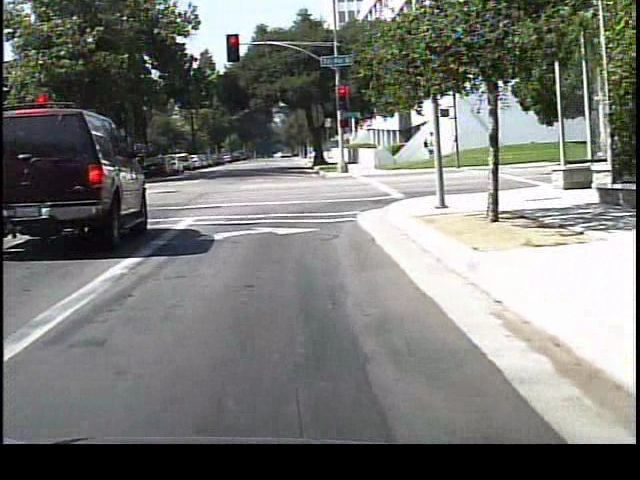person: (419, 127, 441, 170)
